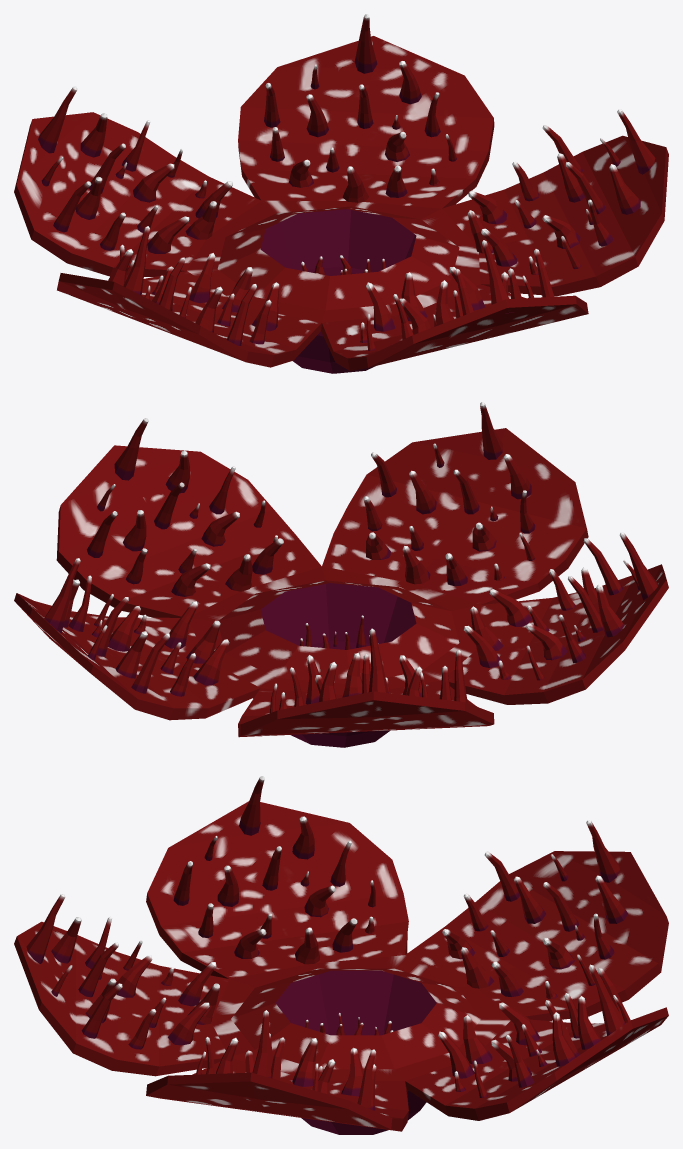
The model's file is HellPlantThing.fbx.
3 renders of one model, top to bottom at view 1: azimuth 30°, elevation 25°; view 2: azimuth 150°, elevation 25°; view 3: azimuth 270°, elevation 25°, orthographic.
Parts seen in each view (by area): view 1: HellPlantThing; view 2: HellPlantThing; view 3: HellPlantThing.
Boxes of the visible parts, x1,y1,x2,y2 form: HellPlantThing: (14,14,668,373); HellPlantThing: (14,402,668,747); HellPlantThing: (14,776,668,1134).
Size of the model in its own units: 103 by 37.5 by 102.
